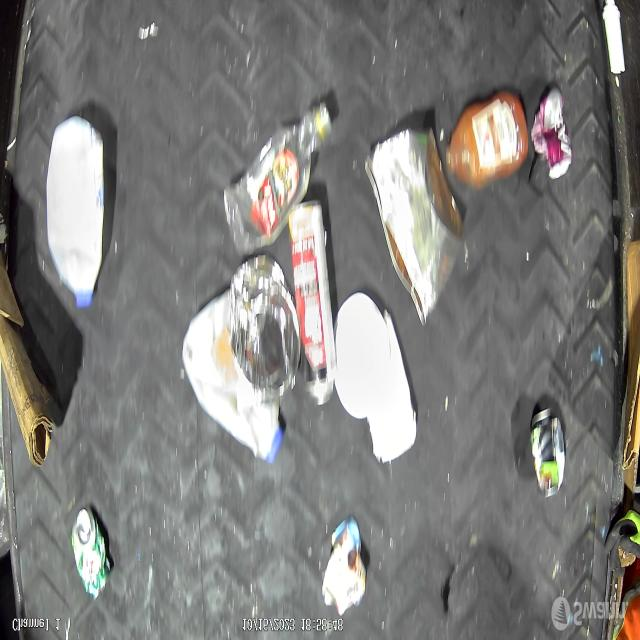can: (366, 124, 464, 324), (230, 255, 300, 401), (288, 198, 336, 407), (71, 506, 111, 600), (529, 407, 566, 499), (539, 89, 573, 179)
milk_jug: (183, 292, 285, 464), (46, 114, 106, 310)
plastic_bottle: (223, 102, 334, 258), (444, 91, 528, 186)
